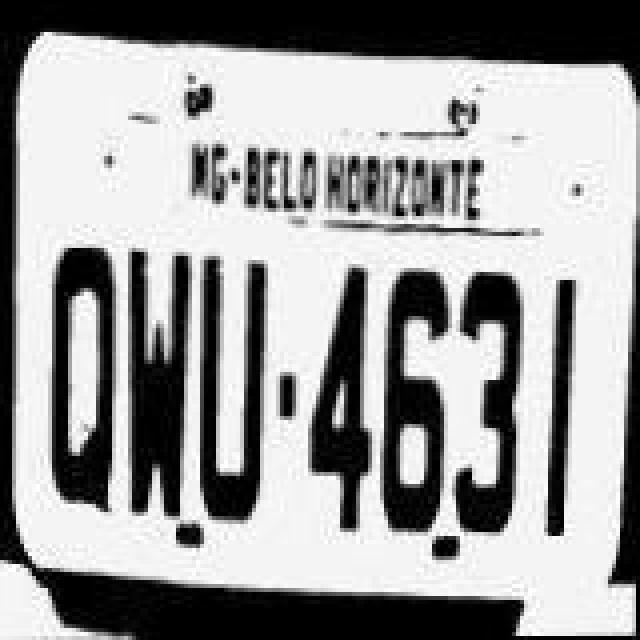1: (536, 254, 588, 546)
3: (448, 264, 524, 548)
4: (306, 256, 378, 540)
6: (376, 258, 452, 538)
Q: (42, 226, 122, 526)
U: (192, 242, 276, 522)
W: (120, 240, 196, 528)
